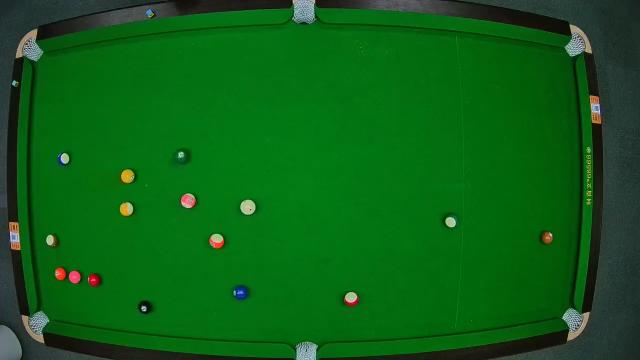bag1: (22, 40, 40, 60)
bag2: (292, 1, 316, 23)
bag3: (566, 34, 588, 54)
bag4: (25, 310, 49, 332)
bag5: (295, 340, 317, 360)
bag6: (564, 309, 582, 331)
ball0: (240, 198, 256, 216)
ball1: (121, 168, 135, 184)
ball10: (56, 152, 70, 166)
ball11: (343, 292, 359, 307)
ball12: (180, 193, 198, 209)
ball13: (208, 233, 225, 249)
ball14: (442, 212, 460, 228)
ball15: (45, 233, 59, 246)
ball2: (234, 284, 250, 300)
ball3: (87, 273, 101, 287)
ball4: (69, 270, 81, 284)
ball5: (54, 267, 66, 280)
ball6: (174, 150, 190, 164)
ball7: (540, 229, 554, 244)
ball8: (137, 300, 153, 314)
ball9: (118, 202, 134, 217)
